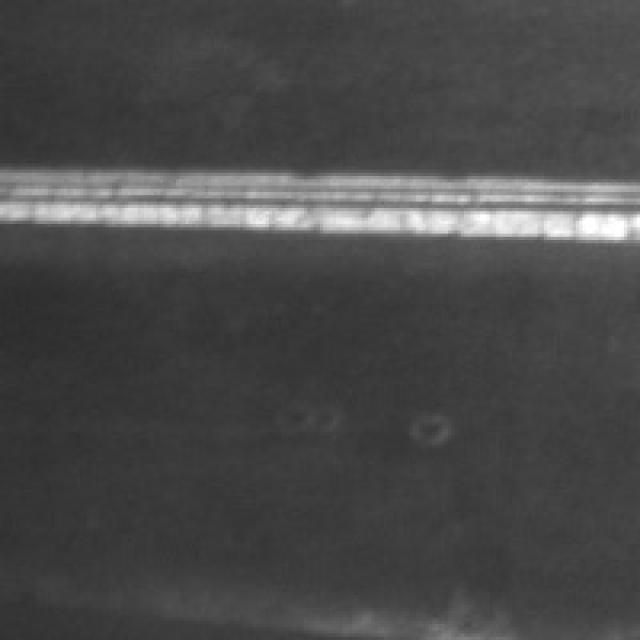scratches: (0, 141, 637, 243)
